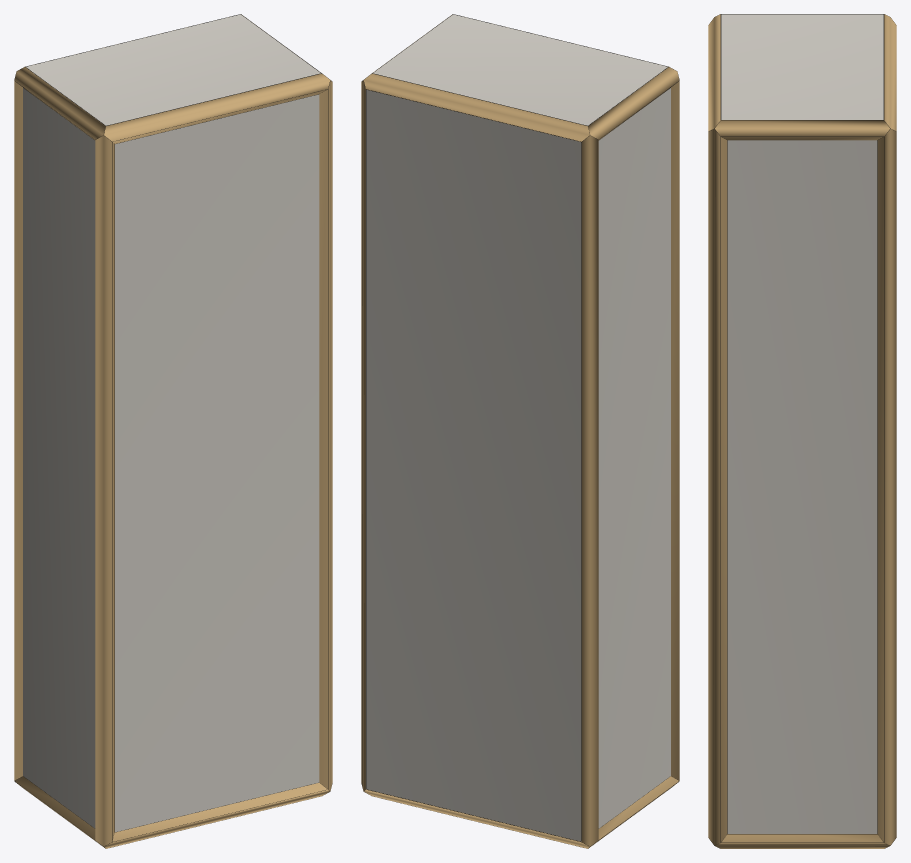
The model's file is dressing-600.glb.
The picture shows the model from 3 angles, left to right: view 1: azimuth 30°, elevation 25°; view 2: azimuth 150°, elevation 25°; view 3: azimuth 270°, elevation 25°; orthographic projection.
Parts seen in each view (by area): view 1: panneau-fond, panneau-joue1, panneau-dessus_exterieur, arete-Z0, arete-Z1, arete-Z2, arete-X2, arete-X0, arete-Y2, arete-Y0, panneau-wire-fond, arete-wire-Z0 (+1 smaller); view 2: panneau-porte, panneau-joue1, panneau-dessus_exterieur, arete-Z2, arete-Z0, arete-X3, arete-Z3, arete-Y2, arete-X1, arete-Y0, panneau-wire-porte, arete-wire-Z2 (+1 smaller); view 3: panneau-joue2, panneau-dessus_exterieur, arete-Z1, arete-Z3, arete-Y3, arete-Y1, panneau-wire-joue2, arete-X2, arete-X3, arete-wire-Z1, arete-wire-Z3, panneau-wire-dessus_exterieur.
Boxes of the visible parts, left/top/right/bottom form: panneau-fond: left=115, top=94, right=319, bottom=832; panneau-joue1: left=23, top=88, right=95, bottom=828; panneau-dessus_exterieur: left=26, top=14, right=320, bottom=125; arete-Z0: left=95, top=135, right=114, bottom=846; arete-Z1: left=319, top=80, right=332, bottom=790; arete-Z2: left=14, top=81, right=22, bottom=780; arete-X2: left=104, top=73, right=330, bottom=143; arete-X0: left=104, top=783, right=329, bottom=848; arete-Y2: left=14, top=67, right=105, bottom=139; arete-Y0: left=15, top=776, right=102, bottom=846; panneau-wire-fond: left=114, top=94, right=318, bottom=832; arete-wire-Z0: left=96, top=135, right=114, bottom=841; panneau-porte: left=366, top=90, right=581, bottom=841; panneau-joue1: left=598, top=88, right=670, bottom=828; panneau-dessus_exterieur: left=373, top=14, right=667, bottom=125; arete-Z2: left=581, top=135, right=598, bottom=846; arete-Z0: left=671, top=81, right=679, bottom=780; arete-X3: left=363, top=73, right=589, bottom=141; arete-Z3: left=361, top=80, right=365, bottom=790; arete-Y2: left=588, top=67, right=679, bottom=139; arete-X1: left=364, top=789, right=589, bottom=848; arete-Y0: left=591, top=776, right=678, bottom=846; panneau-wire-porte: left=366, top=89, right=580, bottom=841; arete-wire-Z2: left=581, top=135, right=589, bottom=841; panneau-joue2: left=727, top=140, right=877, bottom=833; panneau-dessus_exterieur: left=721, top=14, right=883, bottom=119; arete-Z1: left=708, top=129, right=727, bottom=845; arete-Z3: left=877, top=129, right=896, bottom=845; arete-Y3: left=715, top=120, right=889, bottom=140; arete-Y1: left=715, top=834, right=889, bottom=848; panneau-wire-joue2: left=727, top=140, right=877, bottom=834; arete-X2: left=708, top=14, right=720, bottom=131; arete-X3: left=884, top=14, right=896, bottom=131; arete-wire-Z1: left=715, top=129, right=726, bottom=842; arete-wire-Z3: left=884, top=137, right=884, bottom=842; panneau-wire-dessus_exterieur: left=721, top=14, right=883, bottom=120.
Bounding box in the file's own units: 0.6288 × 1.83 × 0.4288.
